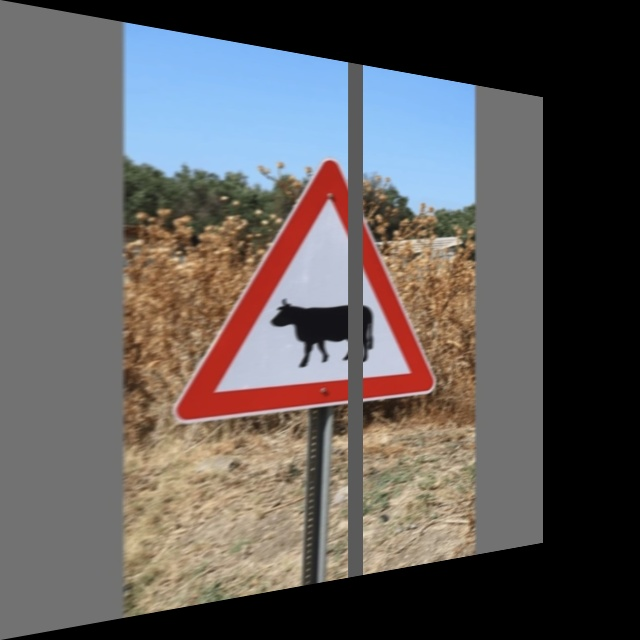Cattle: (189, 147, 437, 421)
